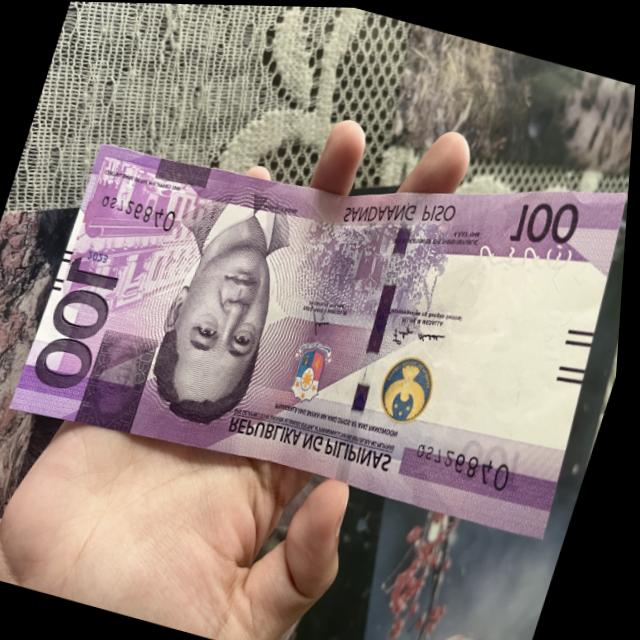concealed_value: (78, 318, 168, 436)
security_thread: (320, 185, 437, 480)
see_through_mark: (466, 214, 588, 289)
serial_number: (86, 180, 193, 247), (411, 432, 525, 493)
value: (30, 244, 135, 404)
watermark: (415, 222, 606, 455)
